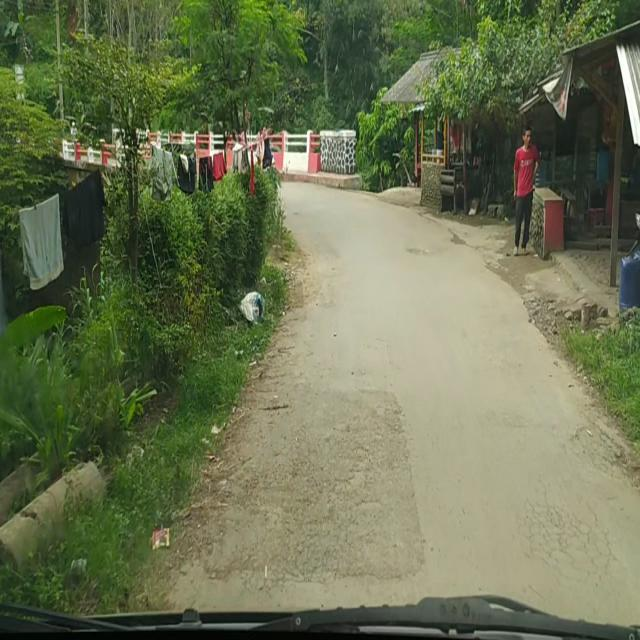Drain Hole: (513, 472, 621, 596)
